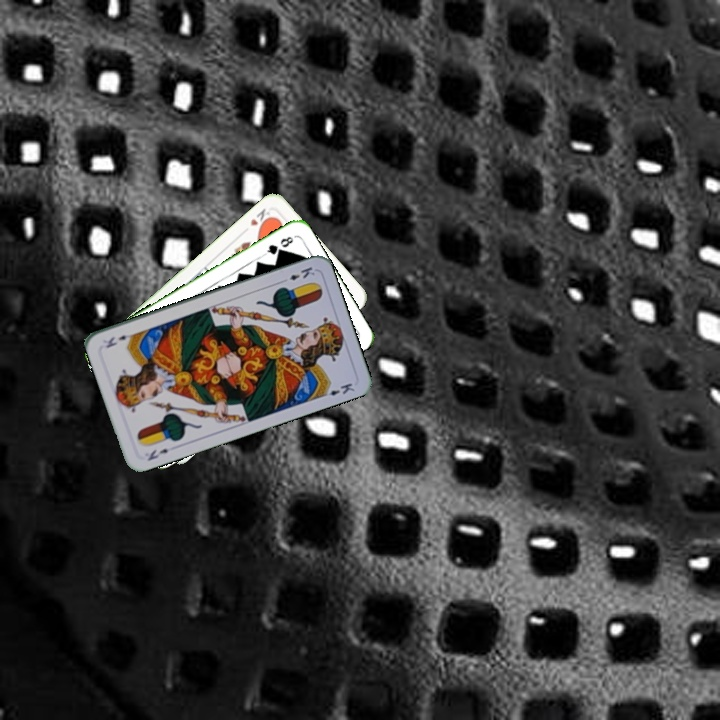EK: (277, 262, 317, 286), (143, 444, 171, 463)
G8: (260, 232, 296, 258)
HK: (246, 204, 274, 231)
